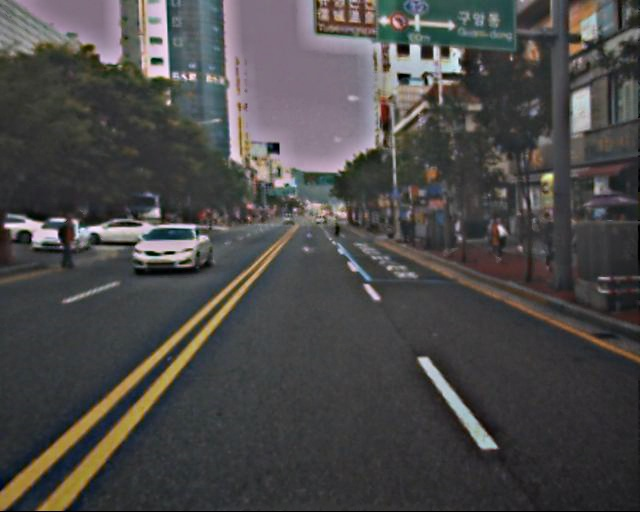person: (535, 212, 559, 270), (55, 214, 78, 270), (489, 216, 507, 261), (446, 214, 463, 256), (420, 215, 436, 253), (406, 216, 420, 249), (399, 219, 410, 245), (333, 217, 341, 237)
